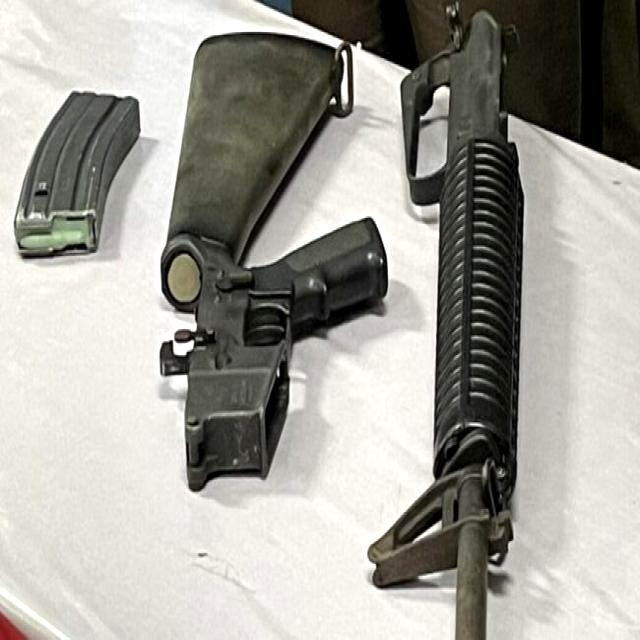m16: (387, 43, 558, 622)
